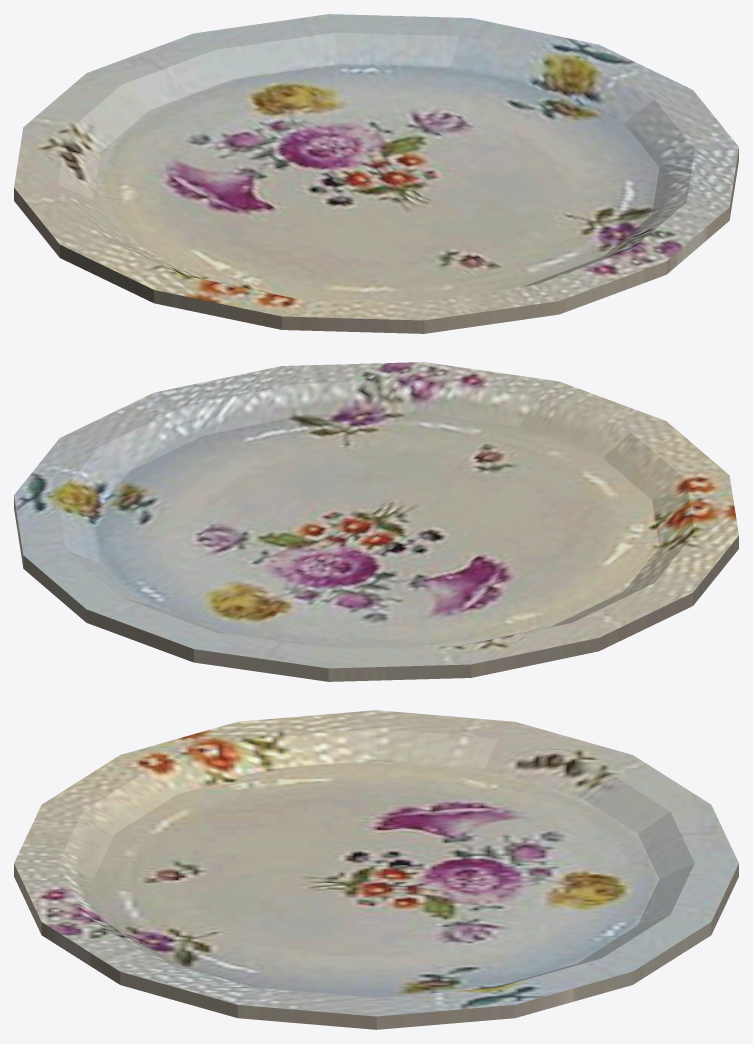
File: plate2.fbx
3 renders of one model, top to bottom at view 1: azimuth 30°, elevation 25°; view 2: azimuth 150°, elevation 25°; view 3: azimuth 270°, elevation 25°, orthographic.
Visible parts, largest first — view 1: Mesh1; view 2: Mesh1; view 3: Mesh1.
Boxes of the visible parts, <box> form: Mesh1: <box>14,14,738,333</box>; Mesh1: <box>14,362,738,681</box>; Mesh1: <box>14,710,738,1029</box>.
Bounding box in the file's own units: 43.67 × 2.13 × 43.67.
